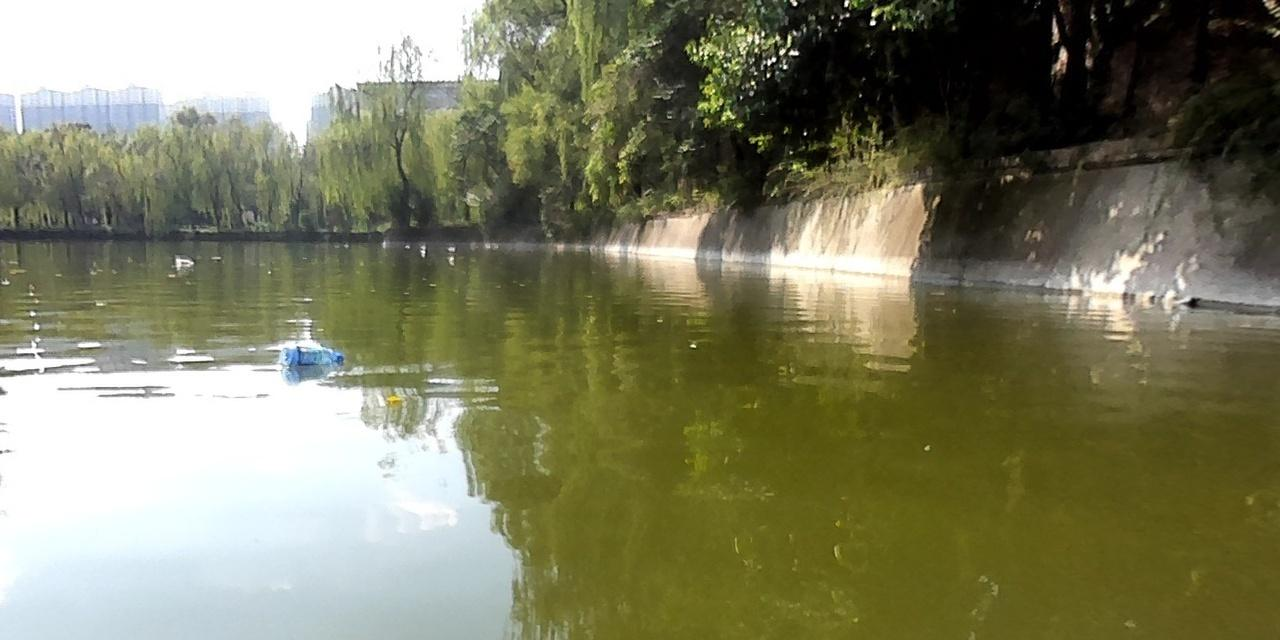bottle: (277, 340, 342, 369), (173, 257, 195, 267)
